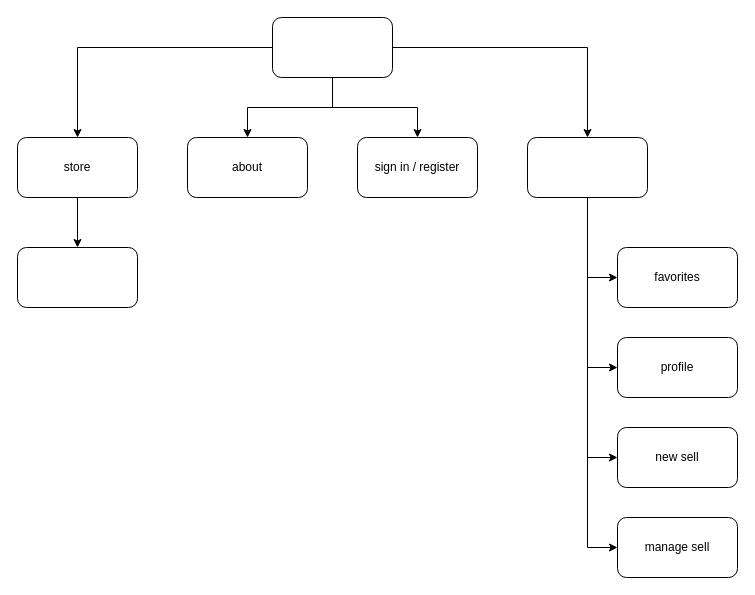
Image size: 755x595. Some labels were removed from this diagram. The box of each missing label's shape, as (x1, y1, x2, y2) in pixels:
home: (272, 16, 392, 78)
item: (16, 246, 138, 308)
user center: (526, 136, 648, 198)
